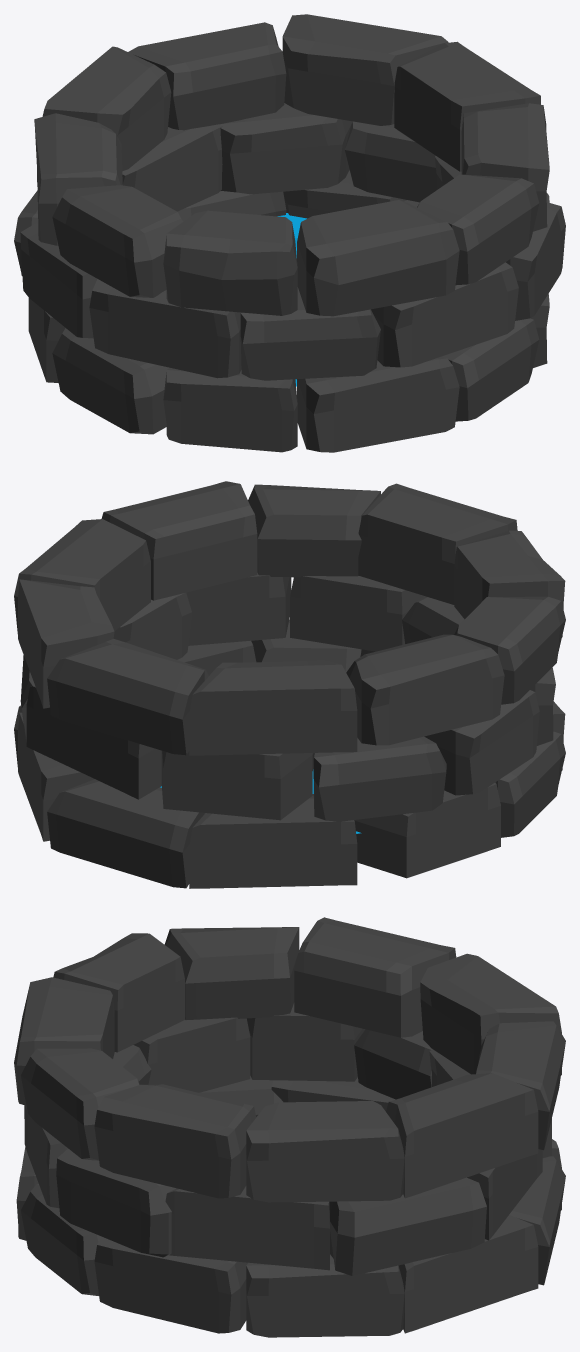
Rendered from Waterput.fbx.
The picture shows the model from 3 angles, top to bottom: view 1: azimuth 30°, elevation 25°; view 2: azimuth 150°, elevation 25°; view 3: azimuth 270°, elevation 25°; orthographic projection. The views are drawn at different scales.
Visible parts, largest first — view 1: Waterput; view 2: Waterput; view 3: Waterput.
Boxes of the visible parts, x1,y1,x2,y2 form: Waterput: (14, 14, 565, 452); Waterput: (14, 481, 565, 888); Waterput: (14, 917, 565, 1337).
Bounding box in the file's own units: 195 × 192 × 79.98.
